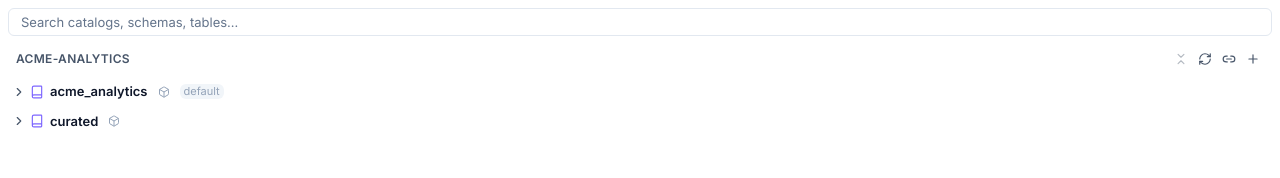
Test: CatalogTree › searches on the server and finds tables in catalogs nobody expanded
Type "revenue" into the field named "Search tables".
click(640, 22); type("revenue")  # box [8,8,1272,36]
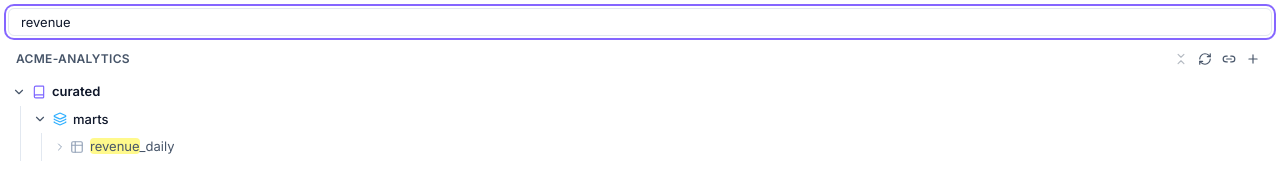
Check: the text "marts" is shown, box [73,110,108,129]
Check: the button "revenue_daily" is shown, box [70,133,1272,160]
Check: the text "revenue" is shown, box [90,138,140,154]
